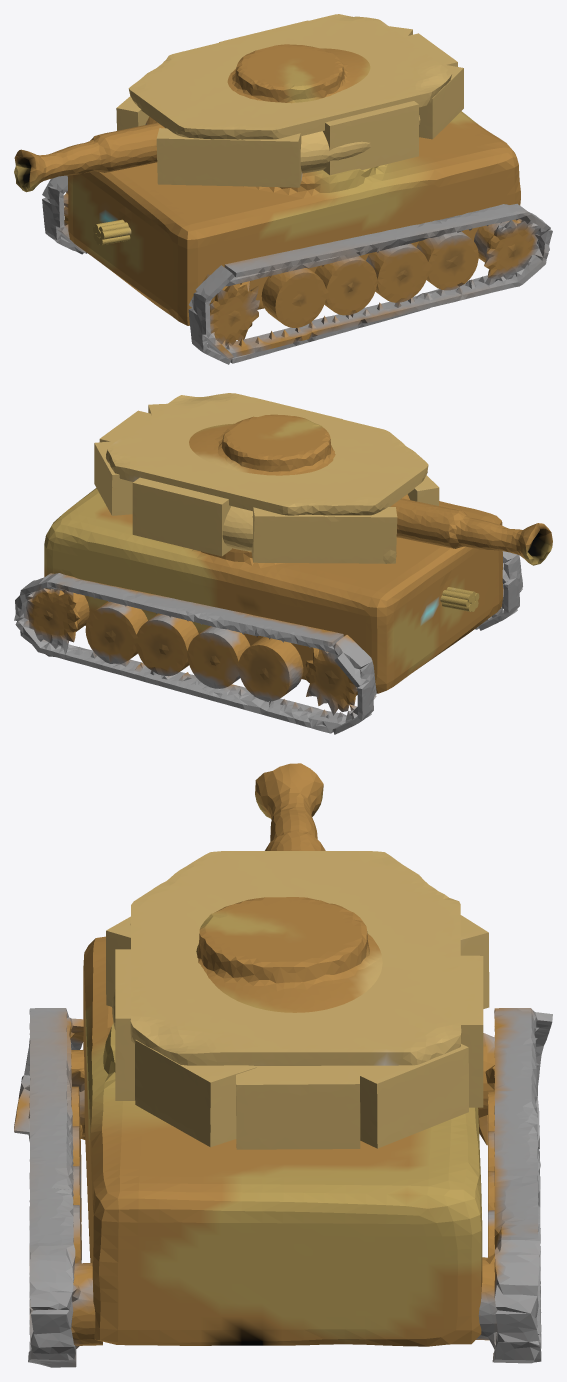
File: tank.glb
The picture shows the model from 3 angles, top to bottom: view 1: azimuth 30°, elevation 25°; view 2: azimuth 150°, elevation 25°; view 3: azimuth 270°, elevation 25°; orthographic projection. The views are drawn at different scales.
Visible parts, largest first — view 1: 円錐, 円柱 (×2), ボックス 25; view 2: 円錐, 円柱 (×2), ボックス 25; view 3: 円錐, 円柱, ボックス 25.
Boxes of the visible parts, box(x1,y1,x2,y2) form: 円錐: box(14, 14, 463, 192); 円柱 (×2): box(67, 111, 520, 325); ボックス 25: box(42, 175, 552, 364); 円錐: box(94, 393, 552, 565); 円柱 (×2): box(44, 488, 502, 693); ボックス 25: box(14, 551, 522, 734); 円錐: box(106, 763, 489, 1149); 円柱: box(83, 936, 482, 1346); ボックス 25: box(14, 1008, 552, 1367).
Bounding box in the file's own units: 11.06 × 4.89 × 7.18.
